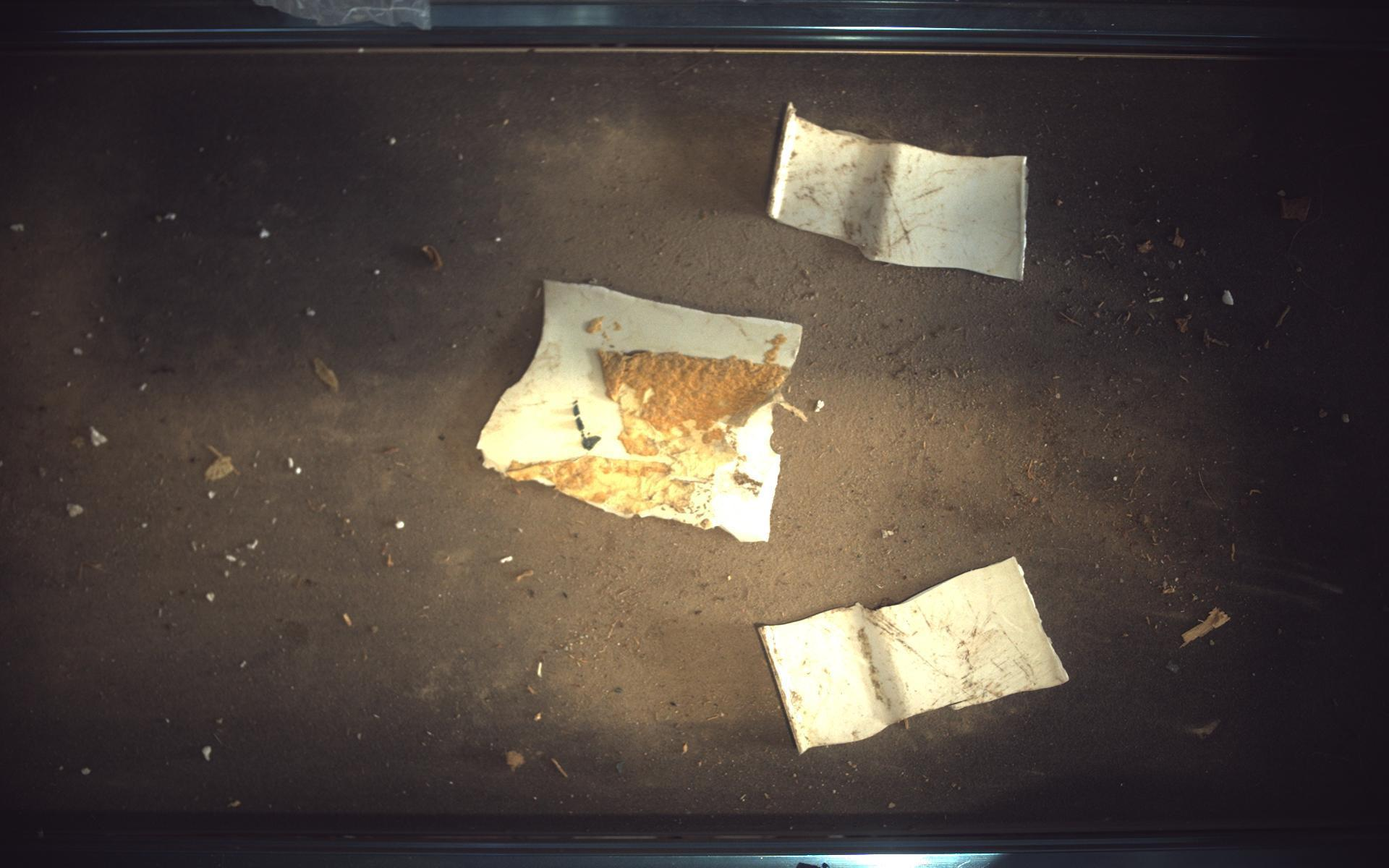plastic: (478, 280, 803, 542), (760, 558, 1071, 754), (770, 103, 1028, 279)
